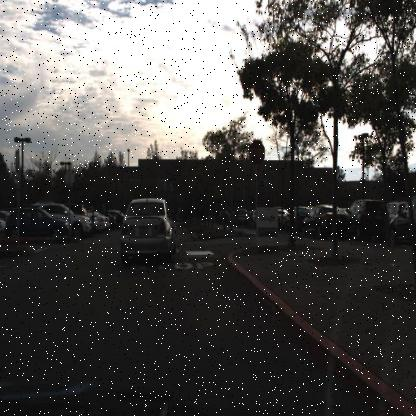car: (118, 197, 180, 266), (4, 205, 71, 239), (345, 198, 389, 242), (300, 203, 348, 239), (388, 198, 415, 249), (67, 209, 91, 237)
